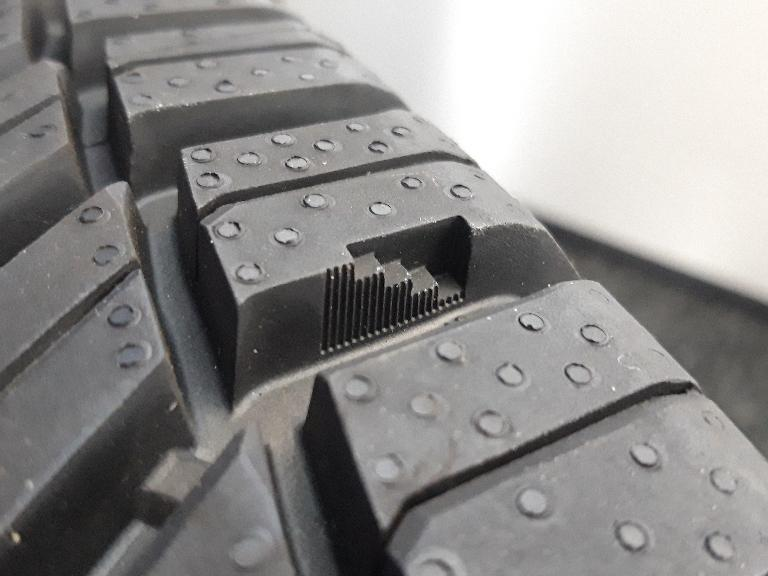temoin:100: (310, 207, 485, 362)
